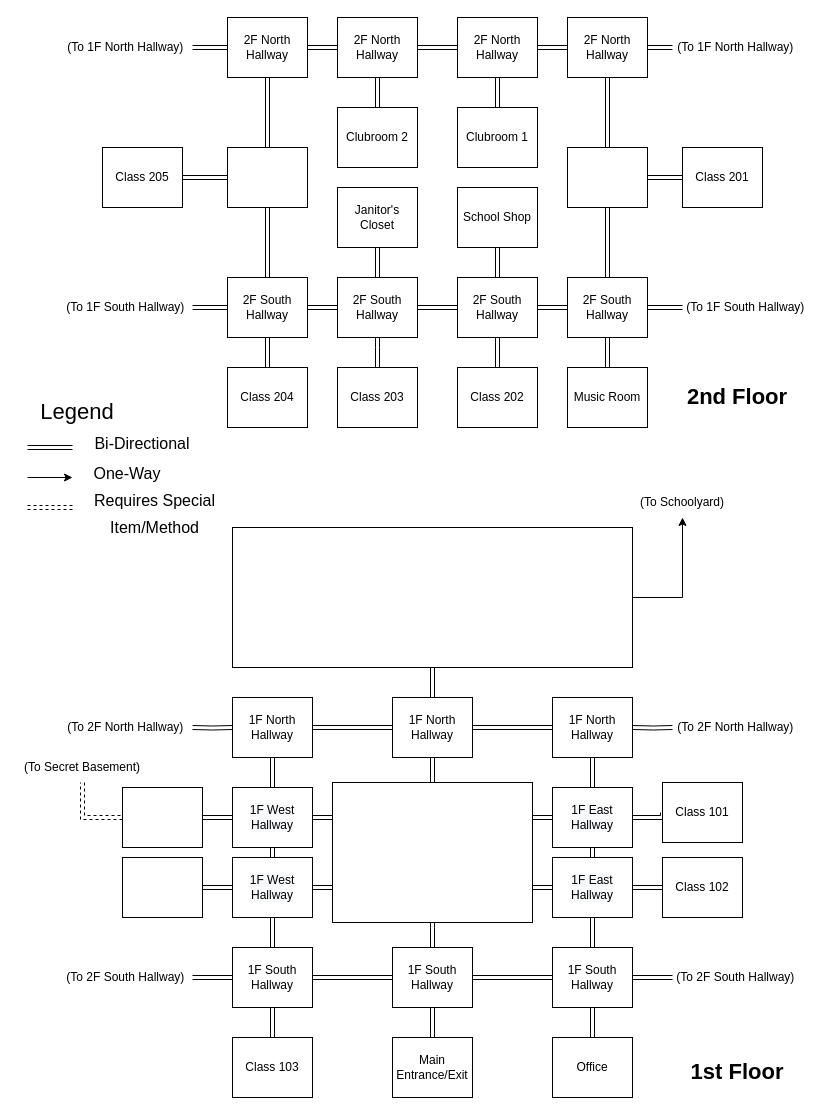
The diagram is 829 pixels wide and 1115 high, and some of its shapes have lost their labels. The shapes that lost their labels are listed below. From the top down, each one's centre as x and y in pixels, then its label:
At point 267,177: "2F West Hallway".
At point 607,177: "2F East Hallway".
At point 432,597: "Gymnasium".
At point 162,817: "Infirmary".
At point 432,852: "Auditorium".
At point 162,887: "Teacher's Lounge".
